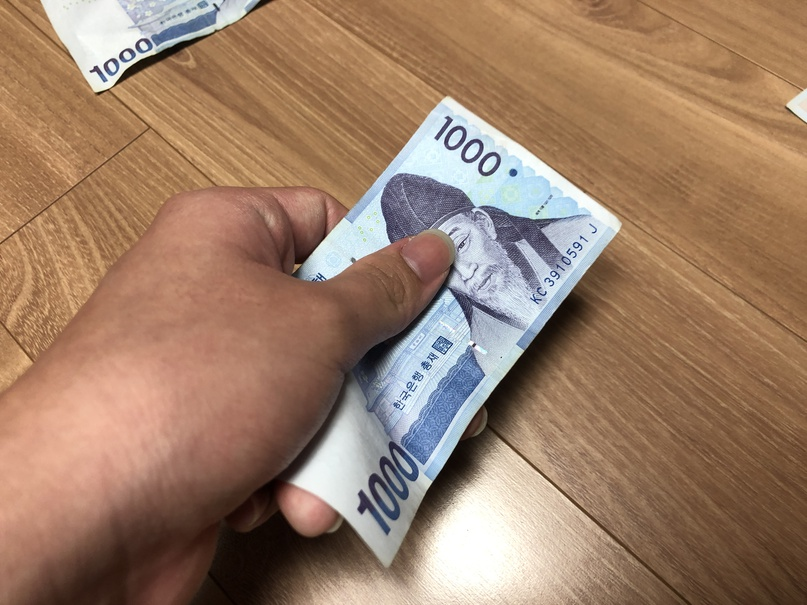1000won: (276, 94, 623, 570)
